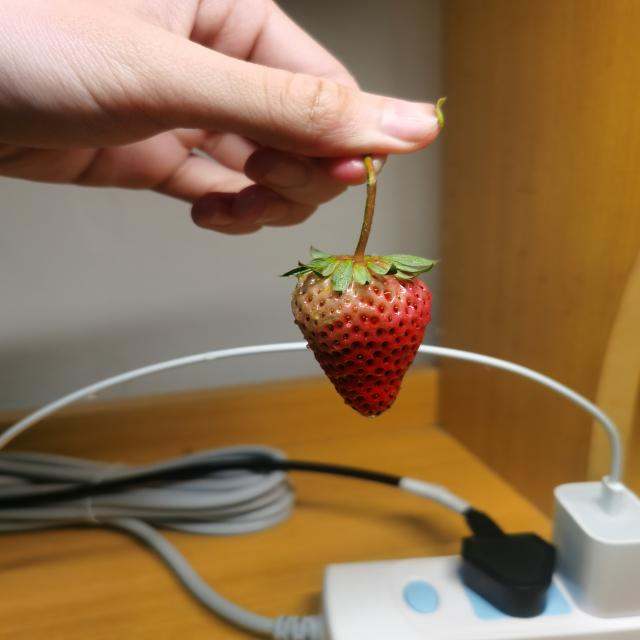stem: (351, 194, 375, 263)
strawberry: (291, 255, 432, 418)
